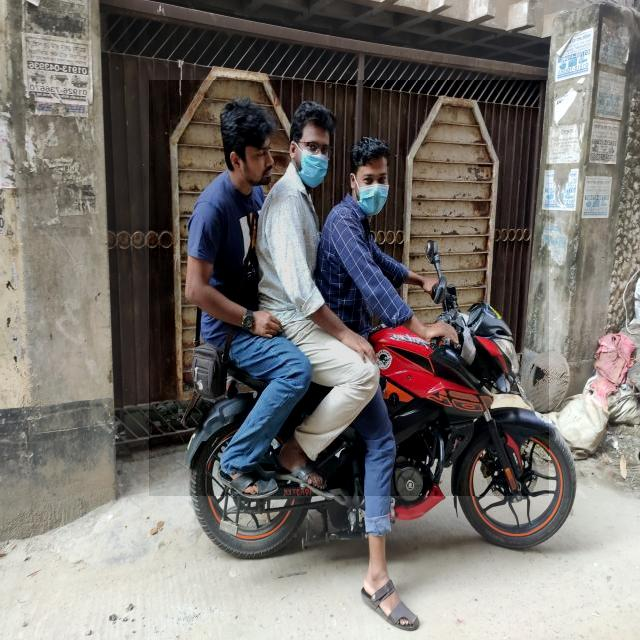Overloading: (150, 80, 550, 496)
